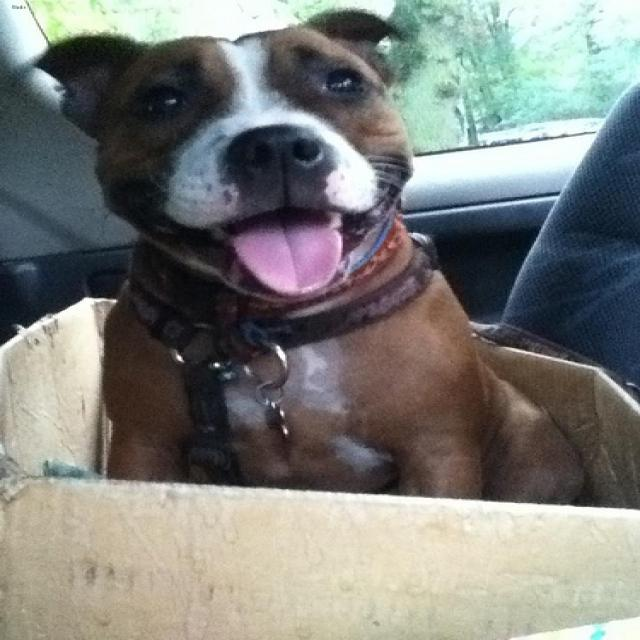dog-staffordshire_bull_terrier: (22, 1, 596, 512)
